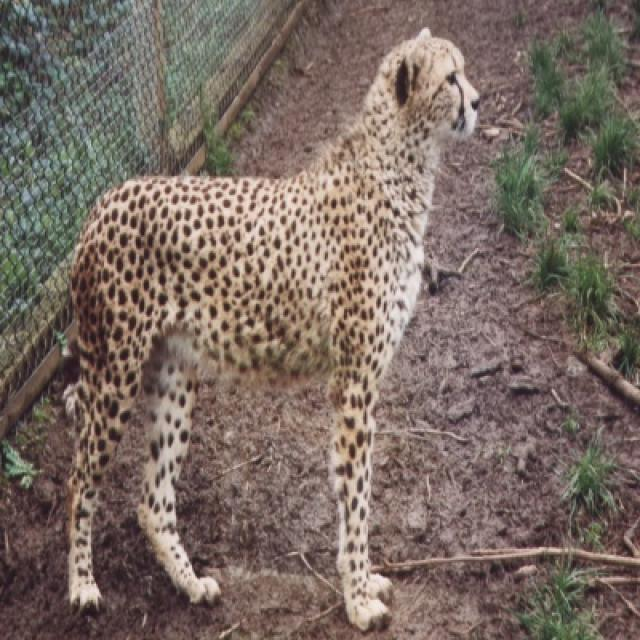Cheetah: (66, 29, 478, 630)
